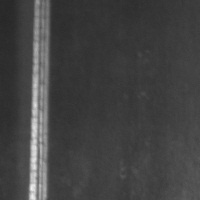scratches: (26, 0, 54, 199)
